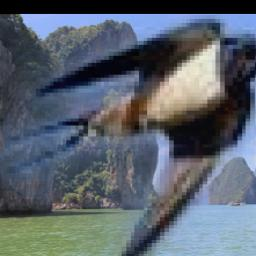Swallow: (0, 15, 256, 256)
